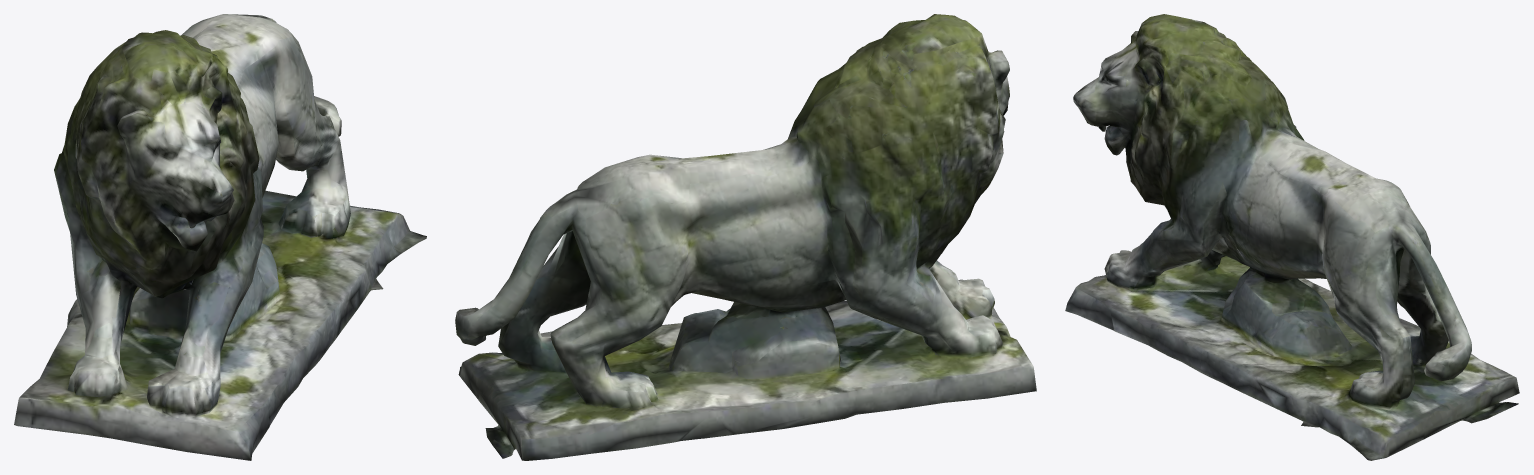
Rendered from bq_lion.far.glb.
3 views of the same model, side by side, from view 1: azimuth 30°, elevation 25°; view 2: azimuth 150°, elevation 25°; view 3: azimuth 270°, elevation 25° (orthographic). The views are drawn at different scales.
Size of the model in its own units: 2.01 by 1.41 by 1.97.
Materials: 1 (1 with a texture image).
